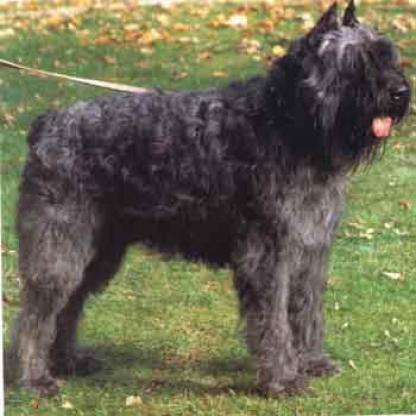Bouvier_des_Flandres: (2, 0, 408, 393)
